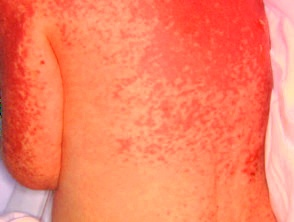SJS-TEN: (0, 0, 274, 186)
